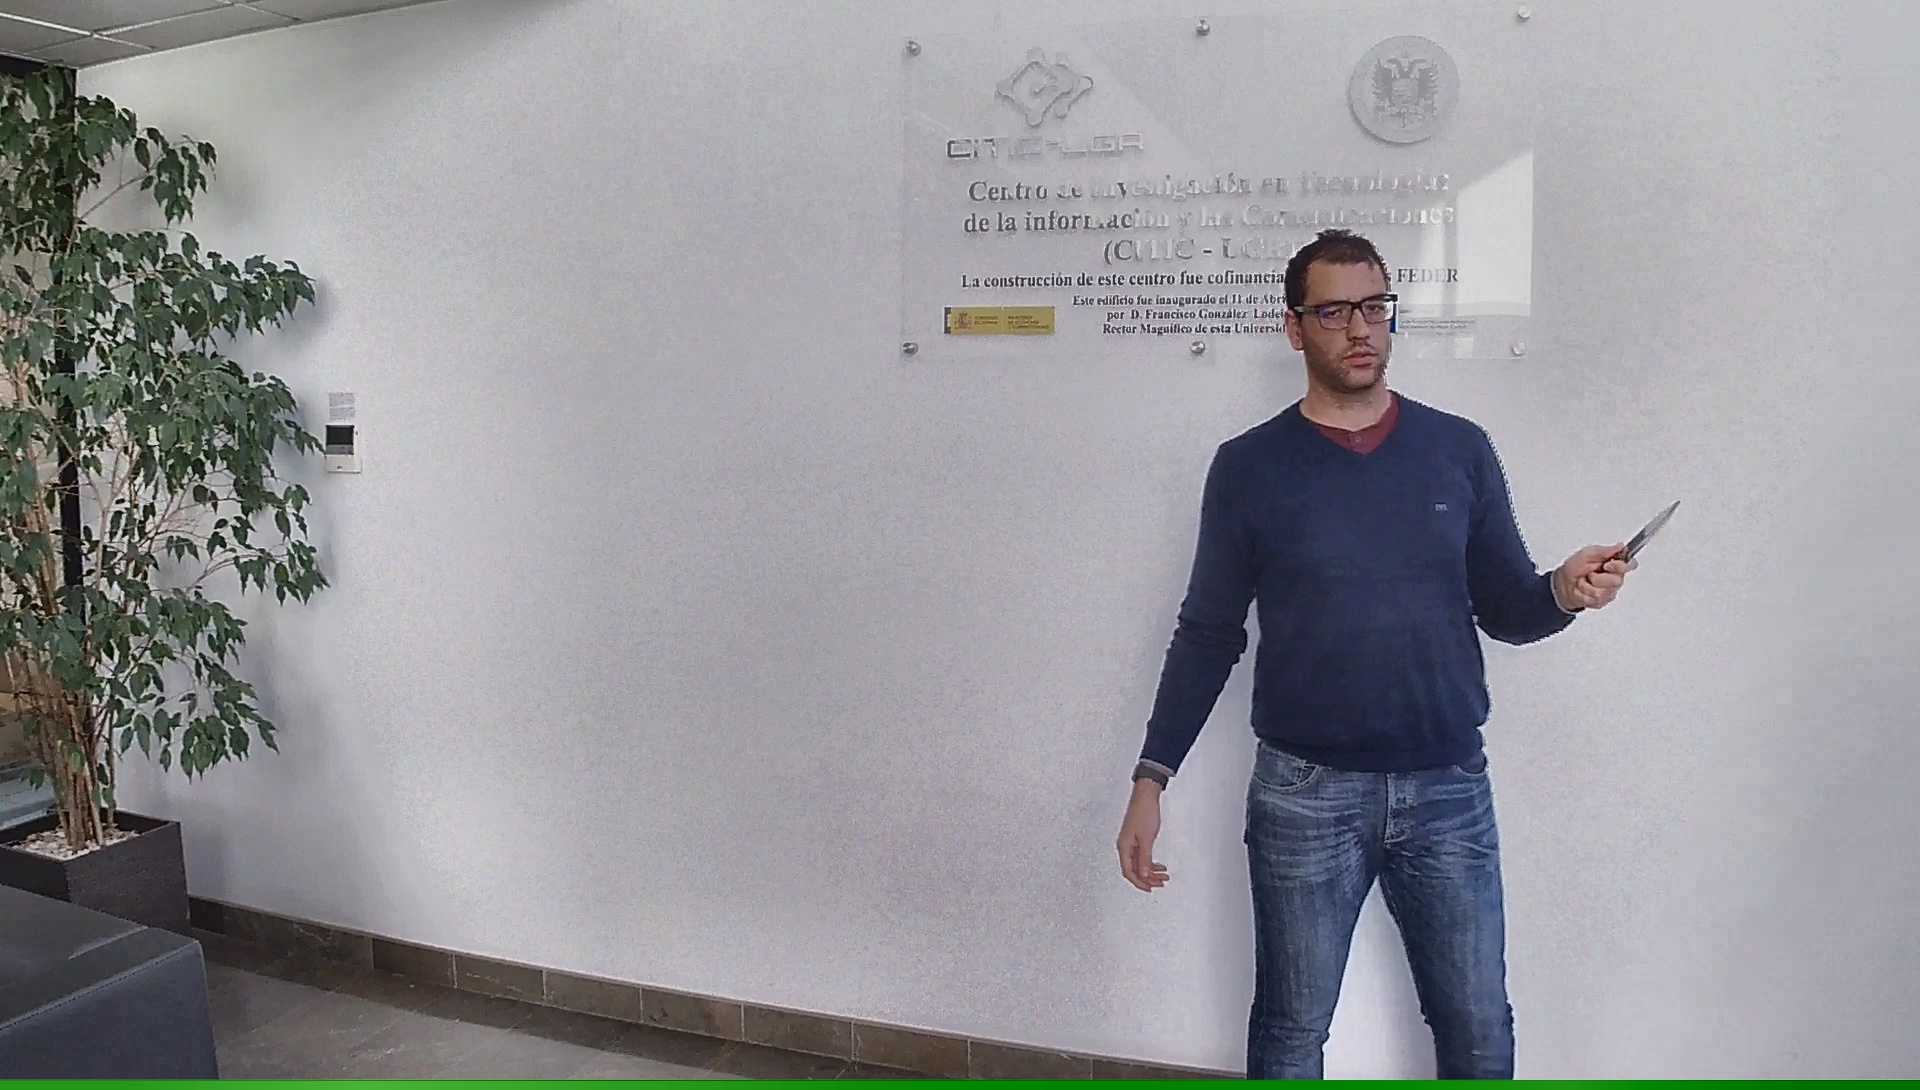knife: (1582, 492, 1687, 592)
